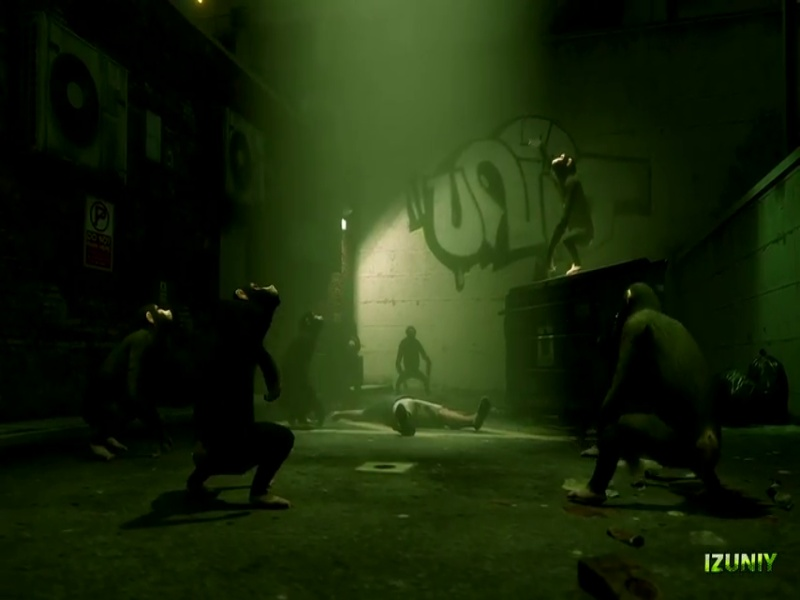licenseplate: (300, 126, 521, 281)
